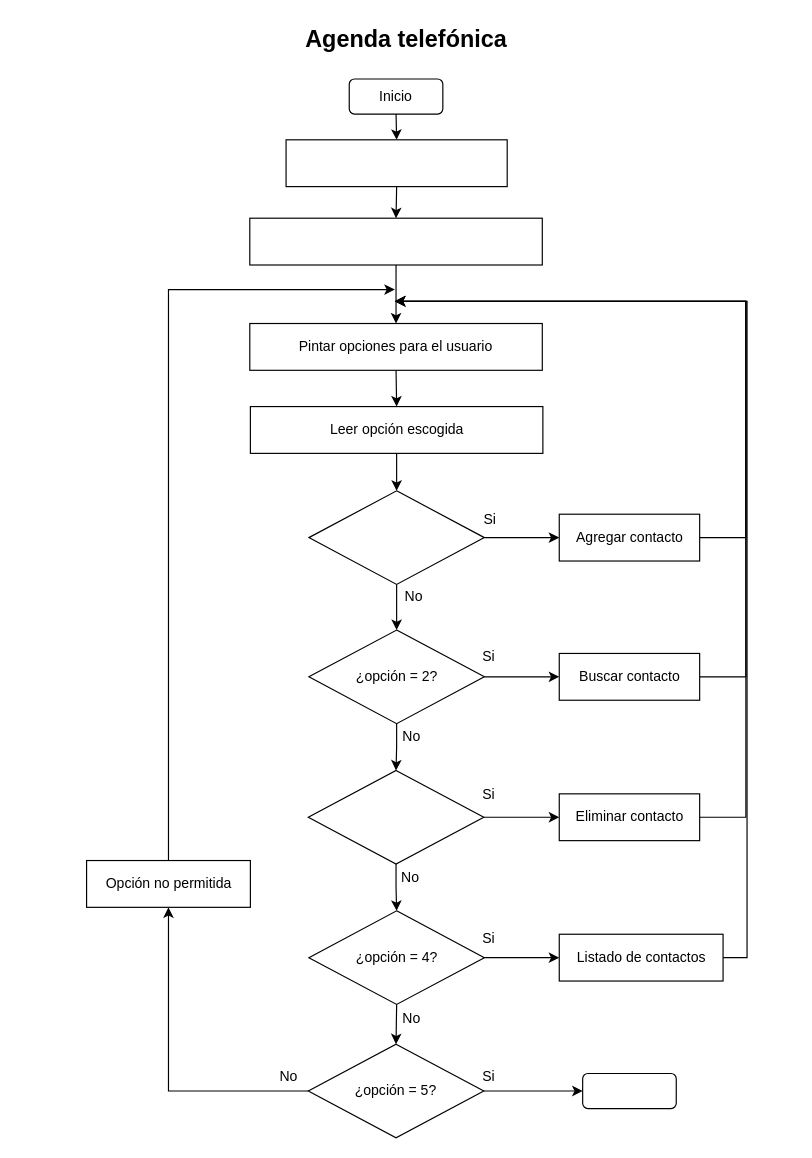
This 812x1158 diagram has some shape labels left out. The shapes that lost their labels are listed below. From the top down, each one's centre as x and y in pixels, then its label:
(396,163): Dimensionar la agenda: número de máximo de contactos
(395,241): Definir variables necesarias
(396,537): ¿opción = 1?
(395,816): ¿opción = 3?
(628,1090): Fin
